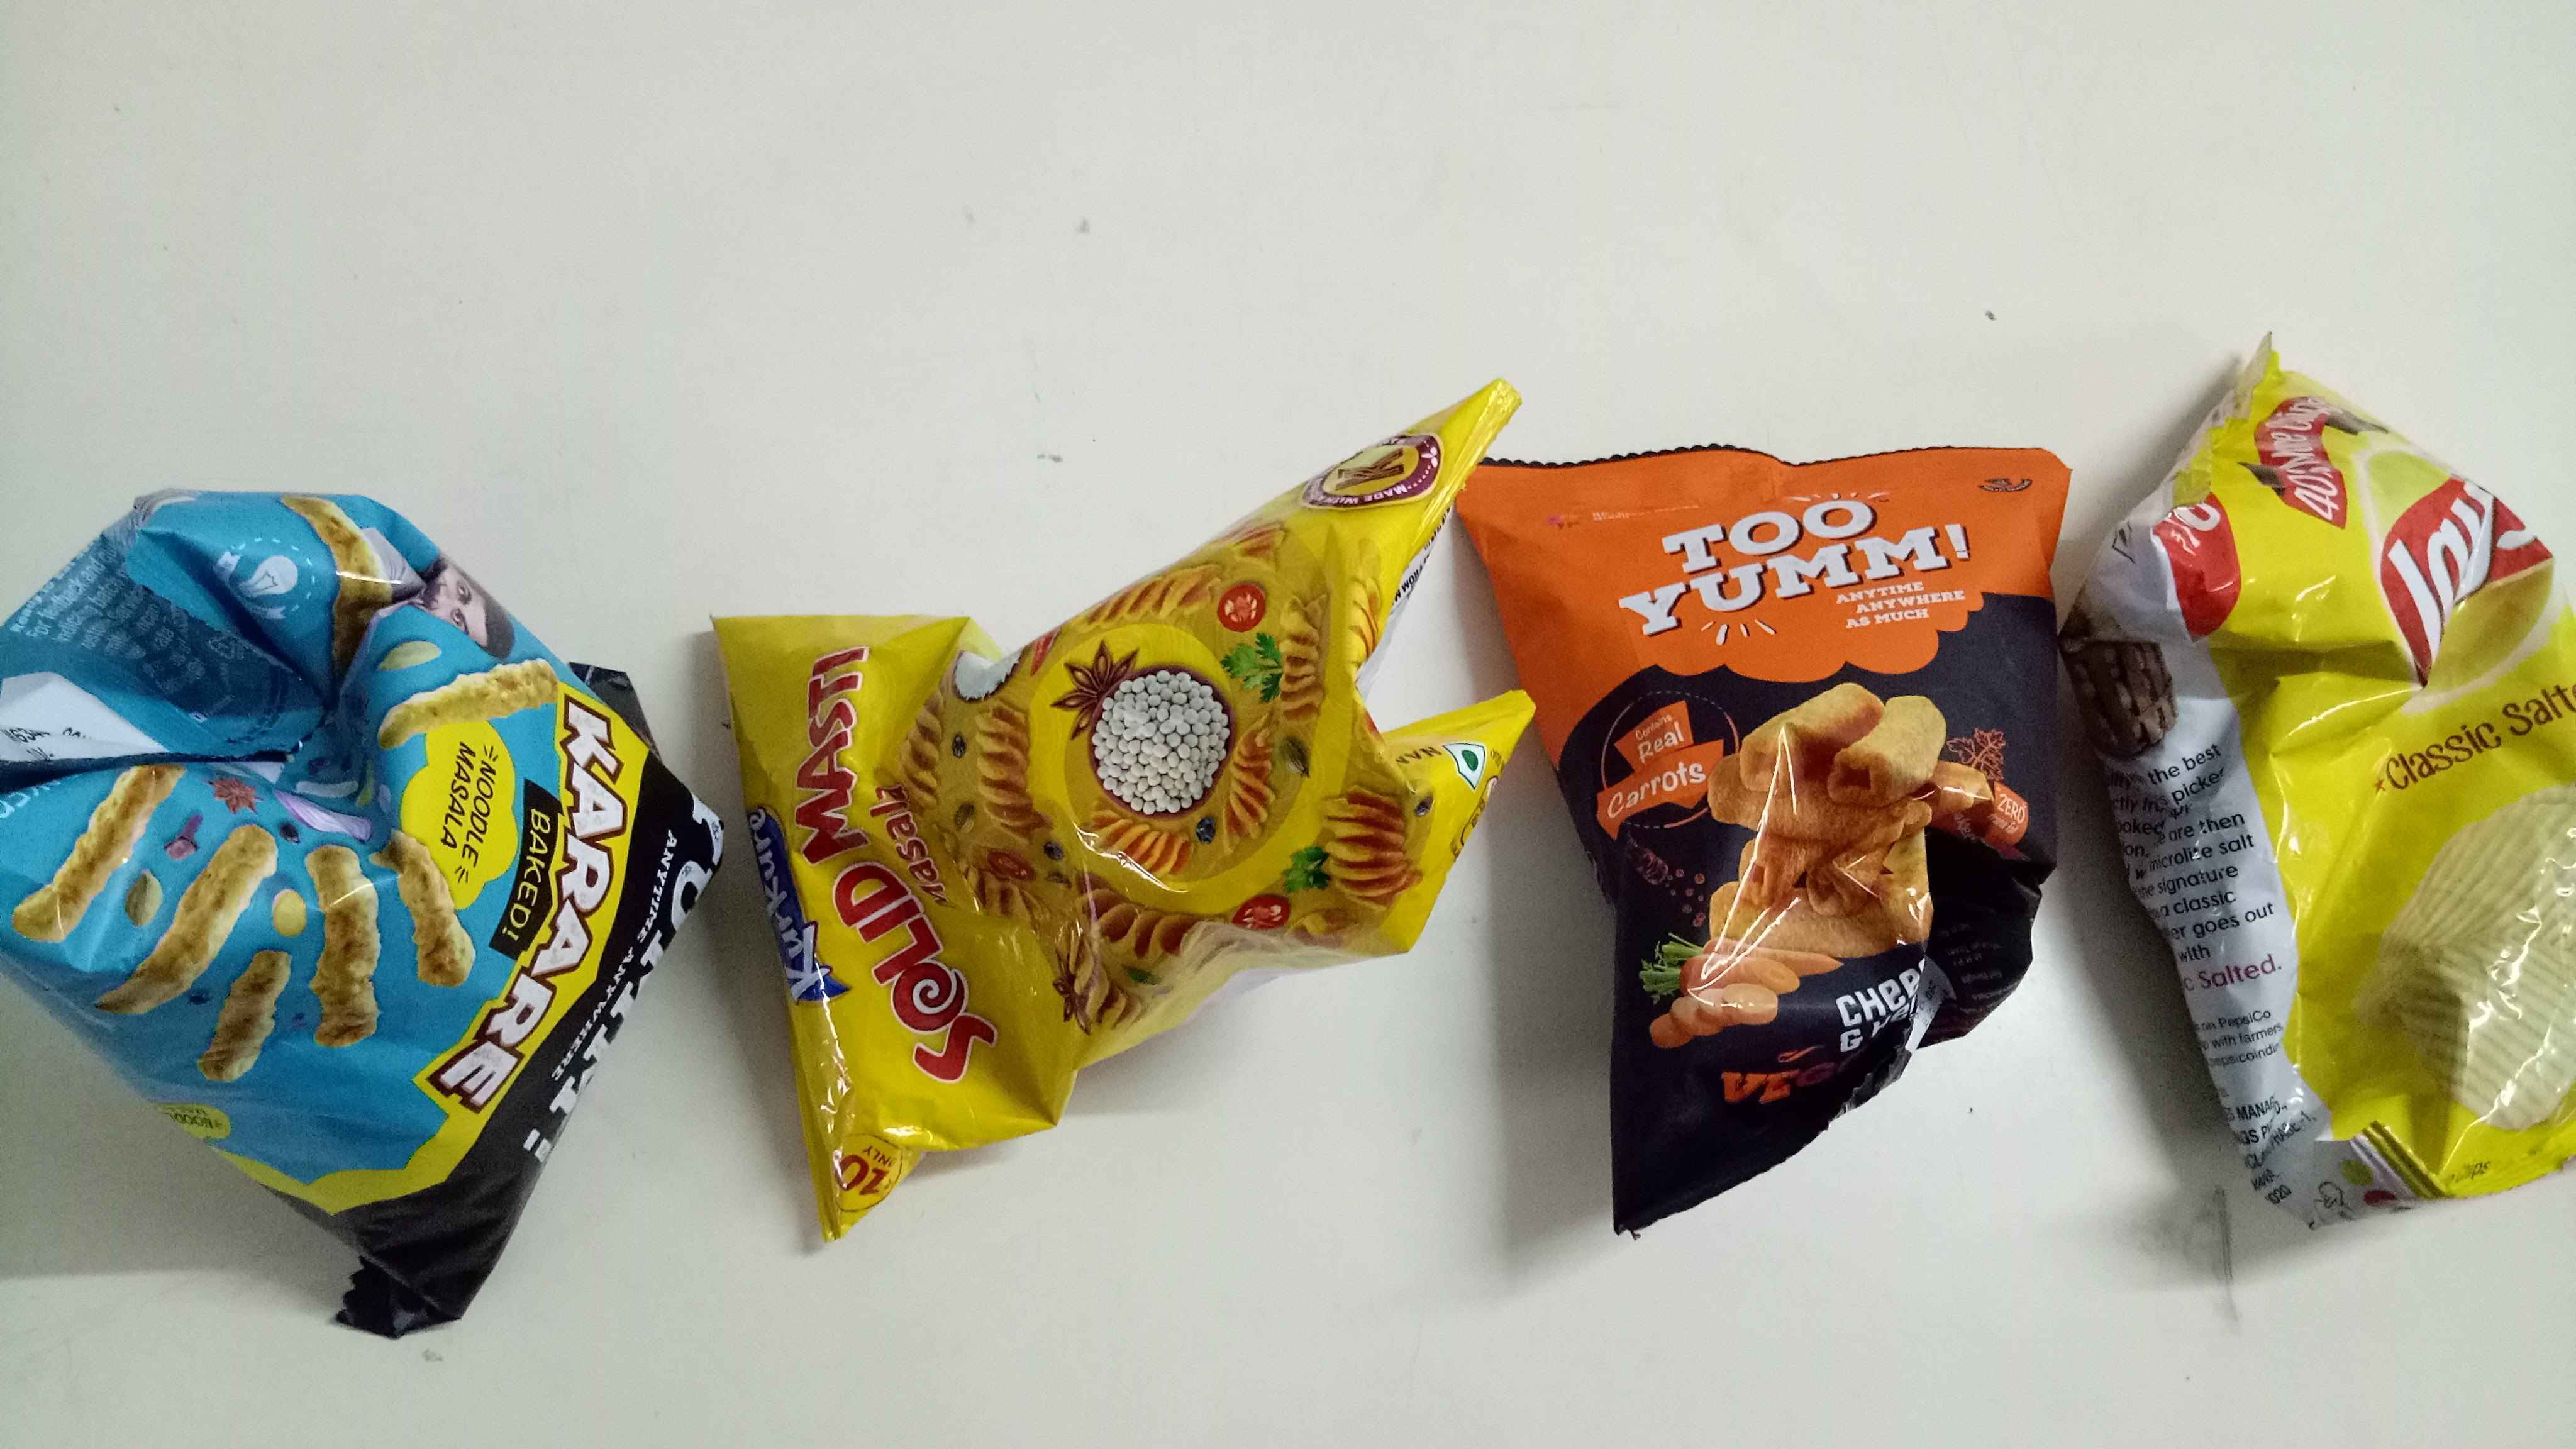Lays: (2348, 430, 2549, 717)
kurkure: (752, 816, 842, 1010)
tooyumm: (536, 777, 740, 1200), (1622, 478, 1957, 646)
